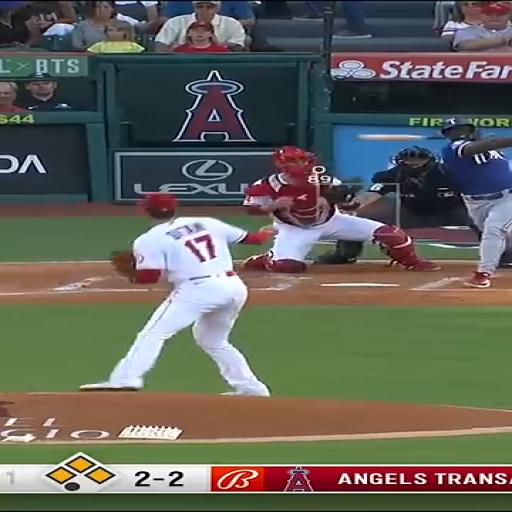bat: (357, 134, 445, 140)
